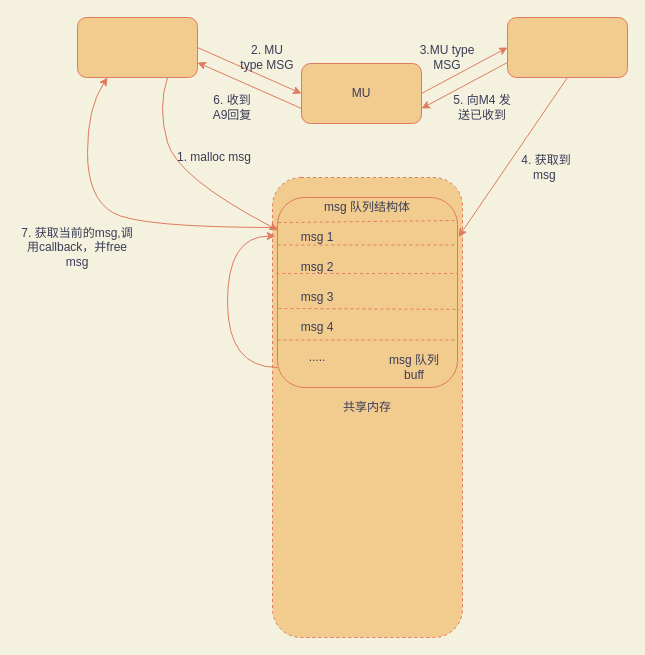
Some shapes in this 645 by 655 pixel diagram are drawn without their labels. Each missing label, with the centre of its shape:
"A9" goes at point 567,47.
"M4" goes at point 137,47.
